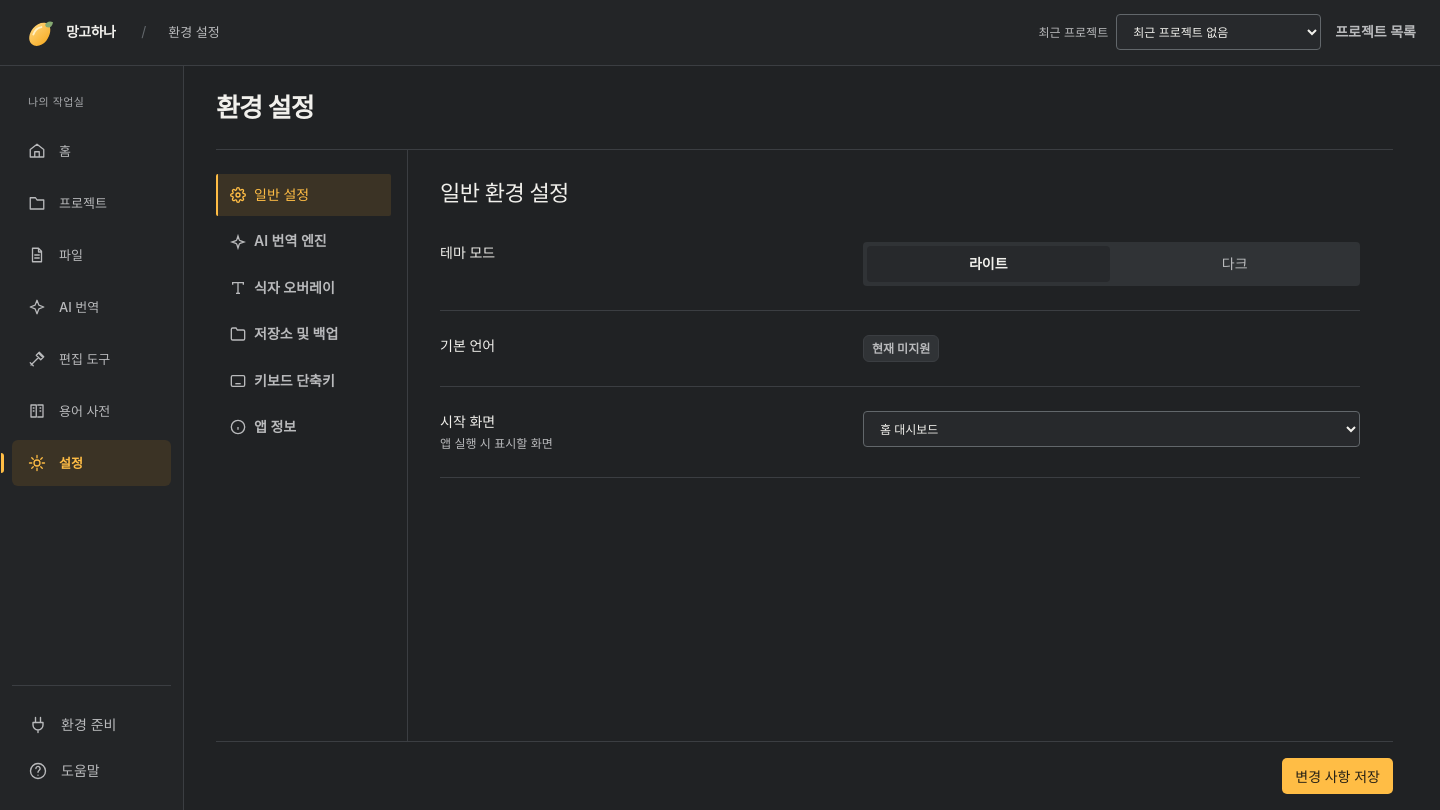
Scenario: SettingsPage › shows unsupported preferences as informational text and excludes them from save payload
The width and height of the screenshot is (1440, 810).
Step 1. Click the tab "식자 오버레이" → (304, 288), box left=216, top=267, right=391, bottom=309
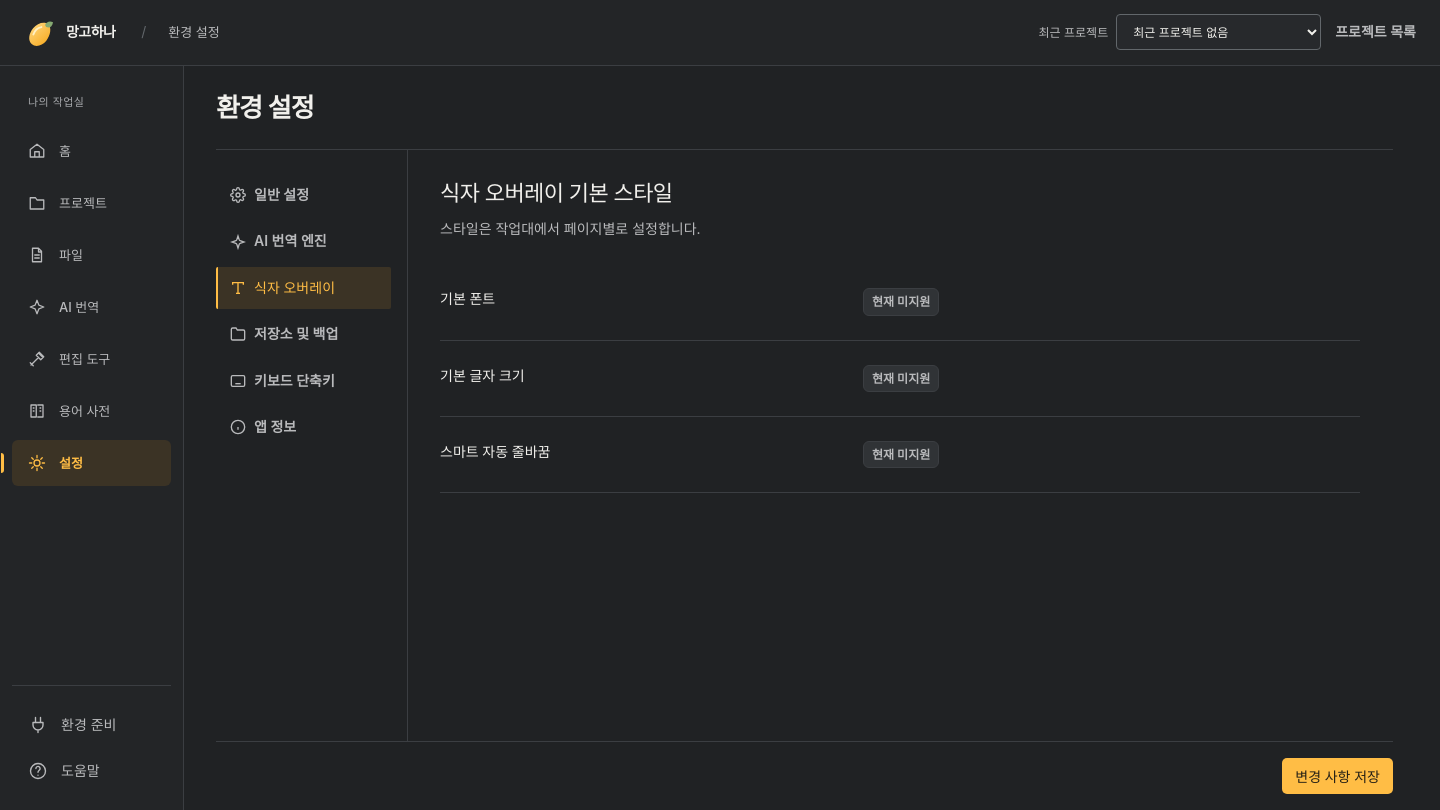
Step 2. Click the tab "저장소 및 백업" → (304, 334), box left=216, top=313, right=391, bottom=356
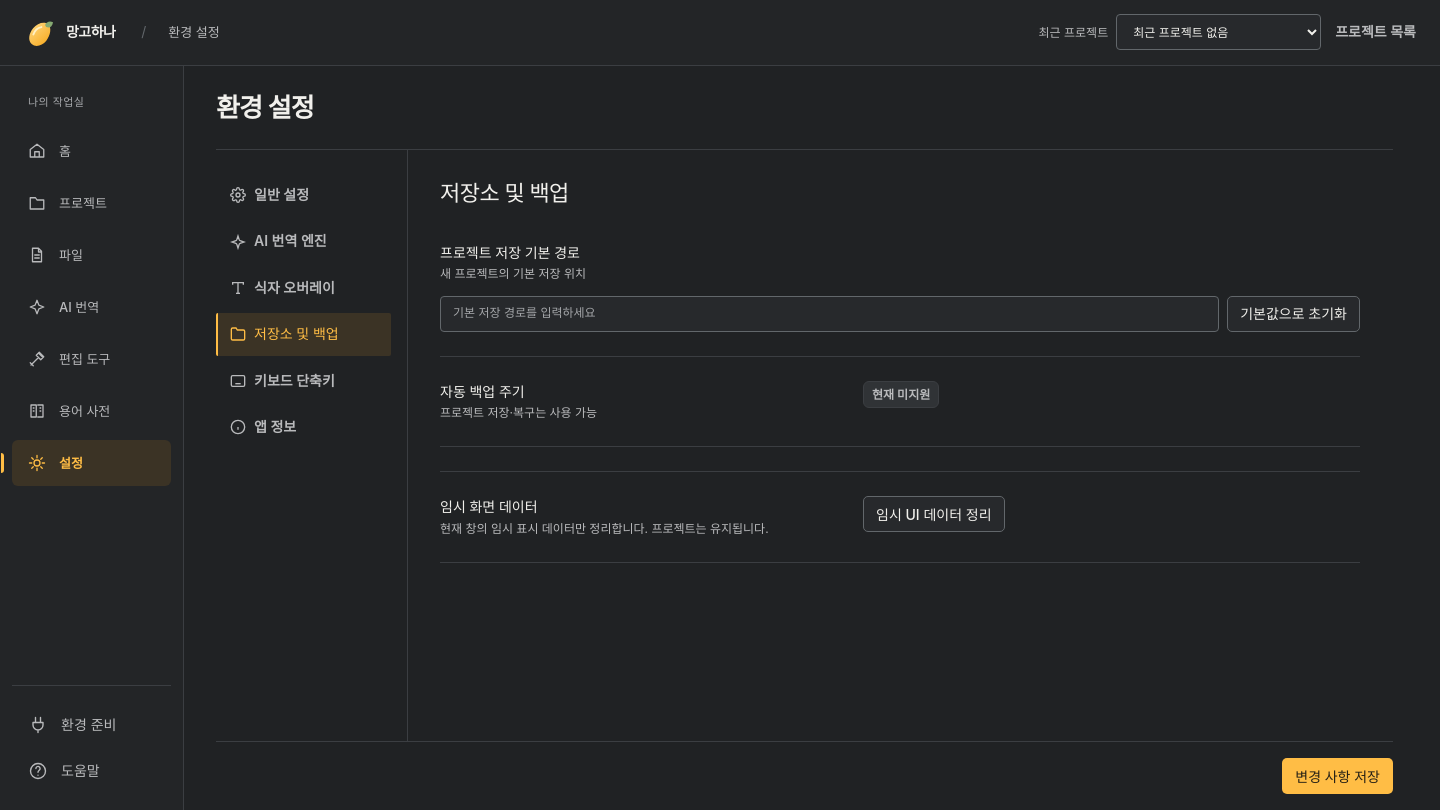
Step 3. Click the button with aria-label "설정 저장" → (1338, 776), box left=1282, top=758, right=1393, bottom=794
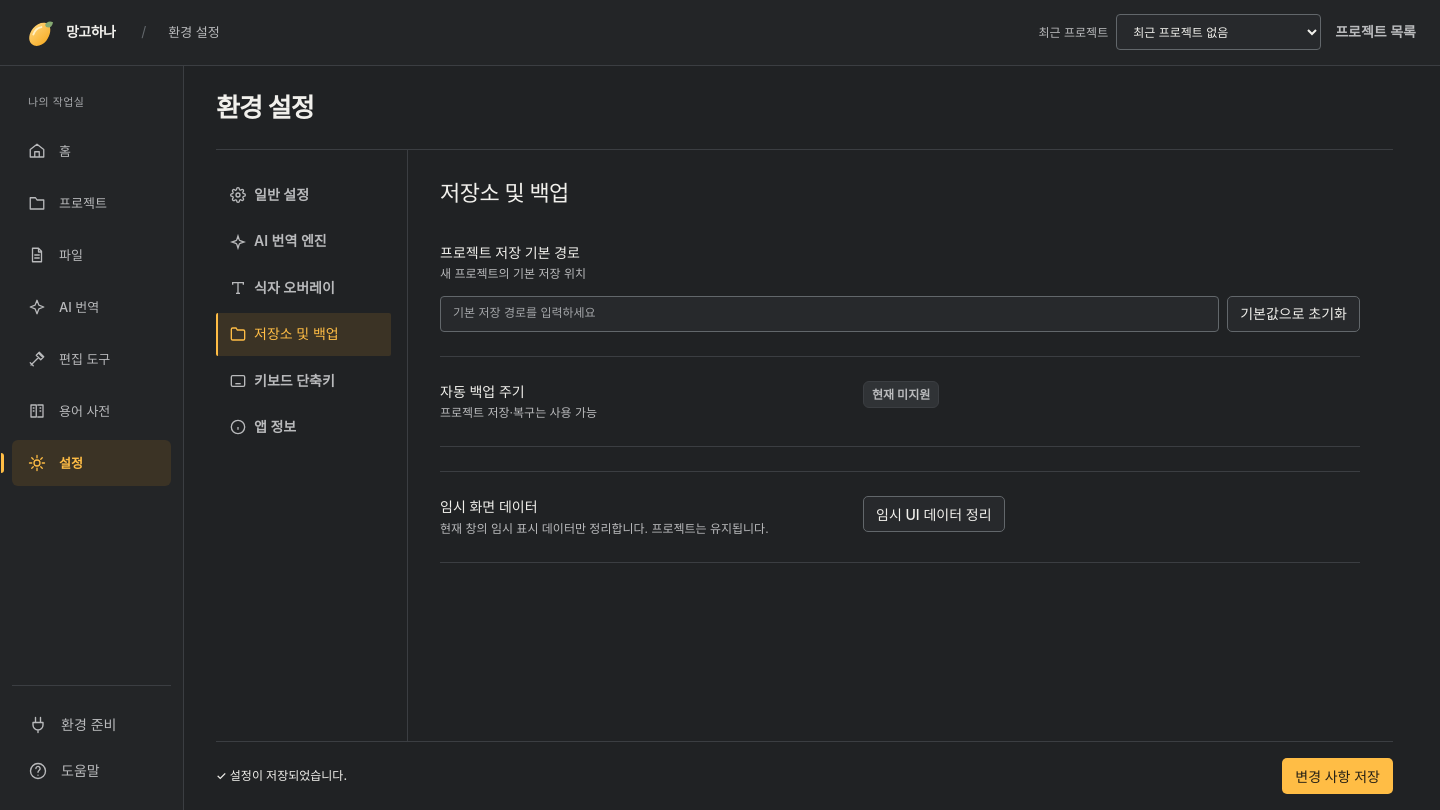
Expected: the text "✓ 설정이 저장되었습니다." is shown, left=216, top=768, right=347, bottom=783
